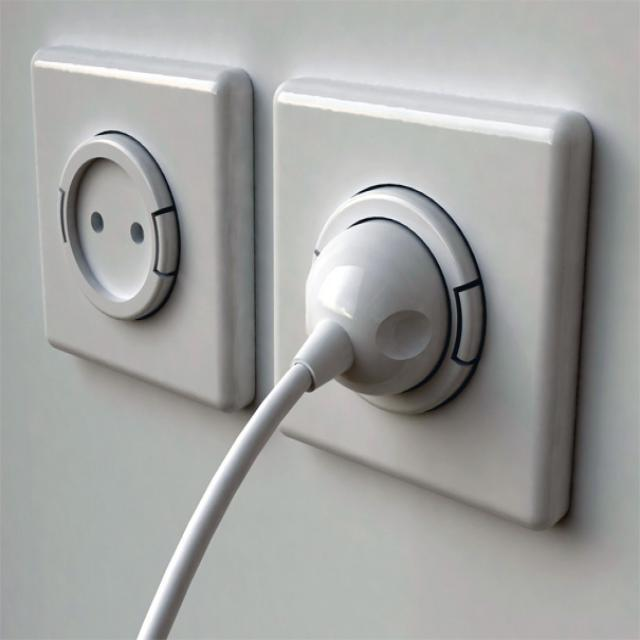typeb: (259, 84, 606, 572), (14, 30, 252, 421)
